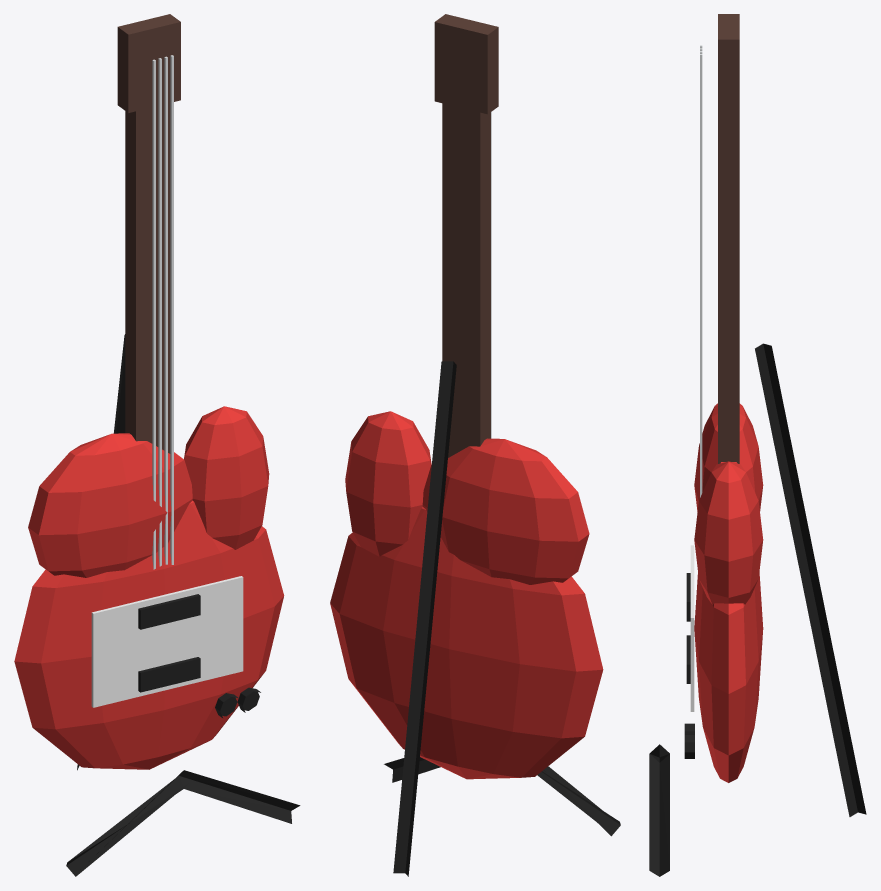
File: elgitarr.glb
The picture shows the model from 3 angles, left to right: view 1: azimuth 30°, elevation 25°; view 2: azimuth 150°, elevation 25°; view 3: azimuth 270°, elevation 25°; orthographic projection.
Visible parts, largest first — view 1: elgitarr; view 2: elgitarr; view 3: elgitarr.
Part boxes in pixels (x1,y1,x2,y2): elgitarr: (14,14,300,876); elgitarr: (330,14,620,876); elgitarr: (649,14,866,876).
Size of the model in its own units: 0.36 by 1.02 by 0.2518.
